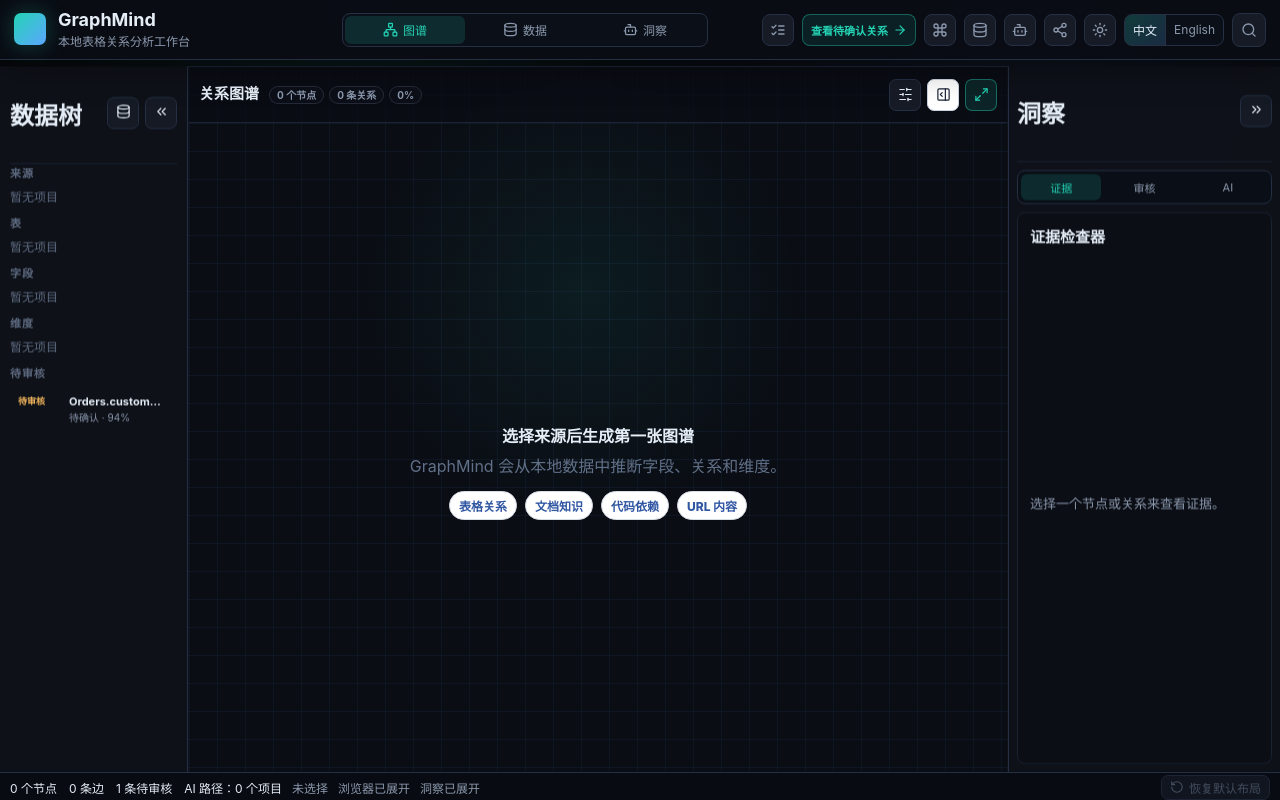
App relationship review wiring › lets reviewers change the SLA trend snapshot range
Click the tab "审核". click: click(1144, 187)
box: [1104,174,1185,200]
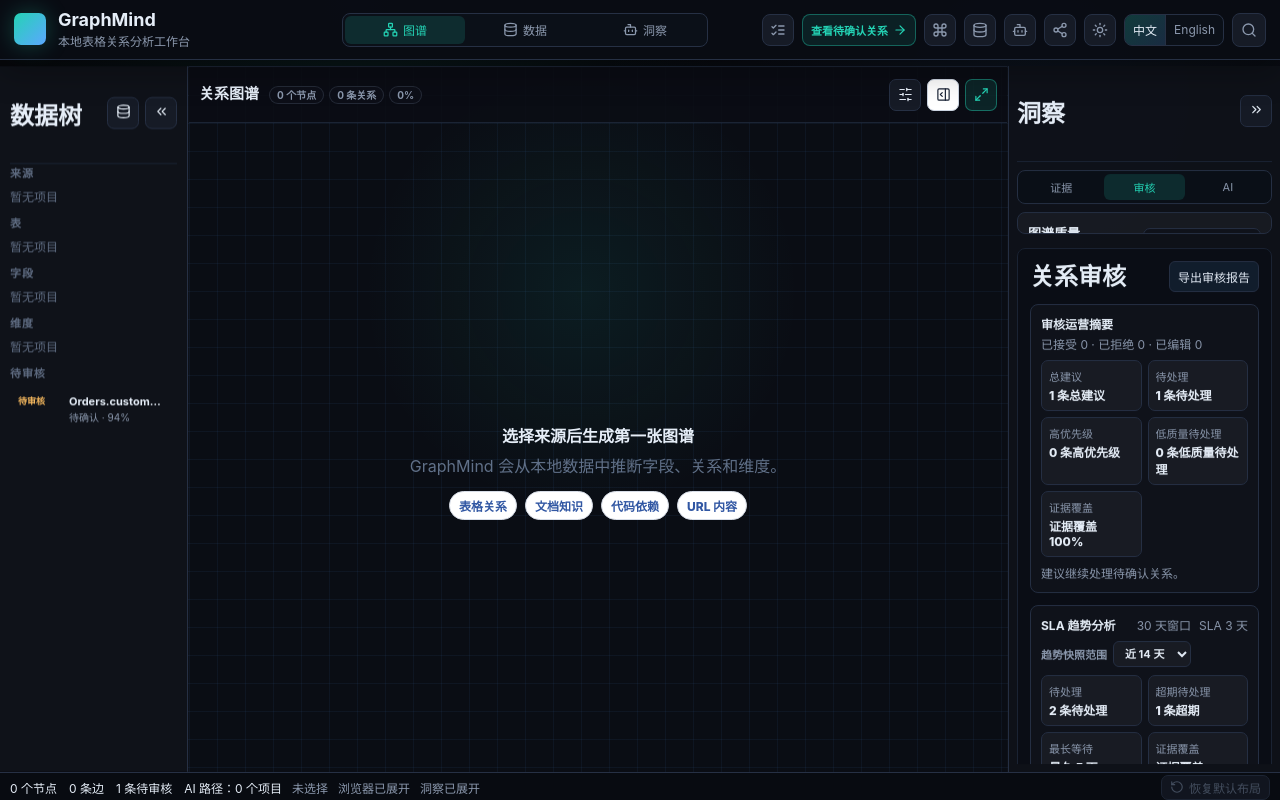
Select "近 30 天" in the dropdown labelled "趋势快照范围". click: (1152, 654)
box: [1113,641,1191,667]
(page scrolled)
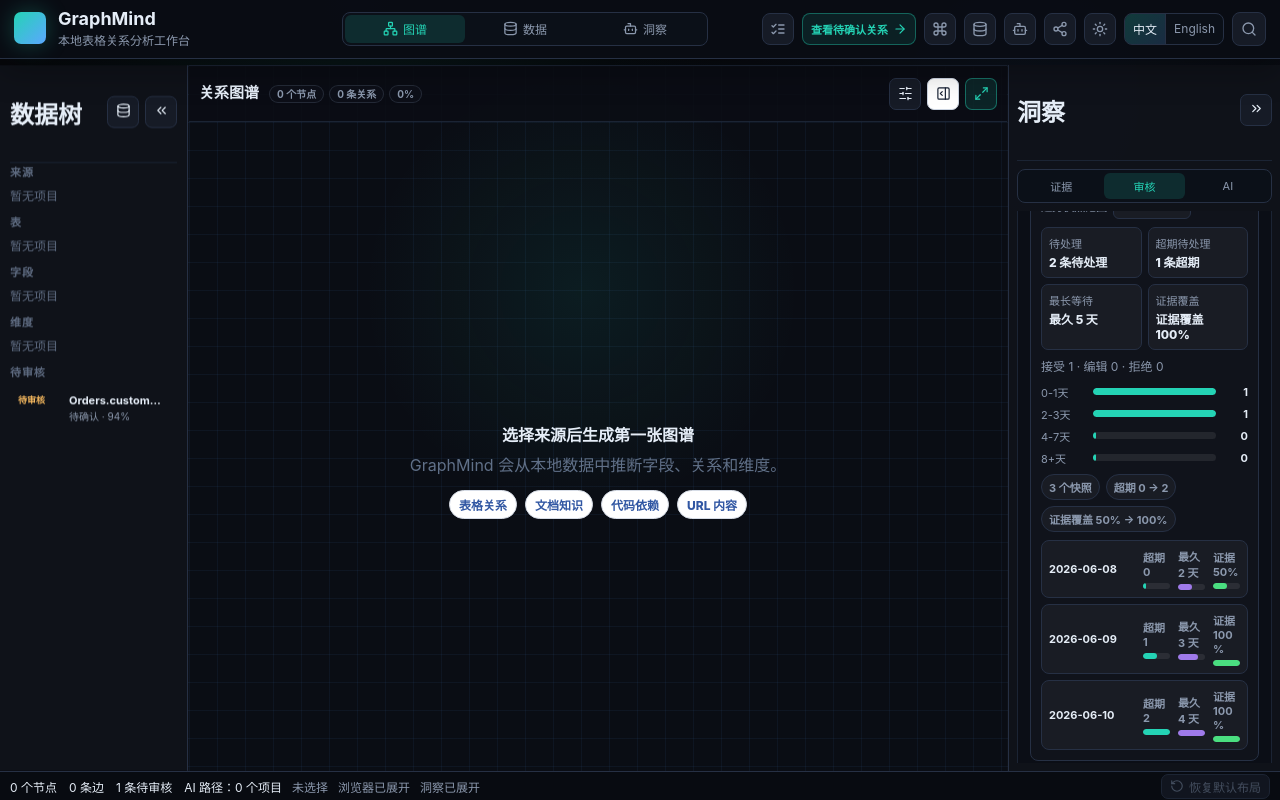
Result: the text "3 个快照" is shown at [1041,474,1100,500]
